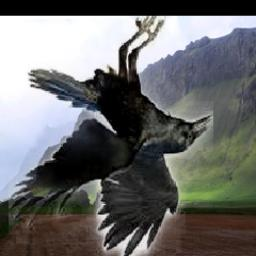Crow: (9, 16, 213, 256)
